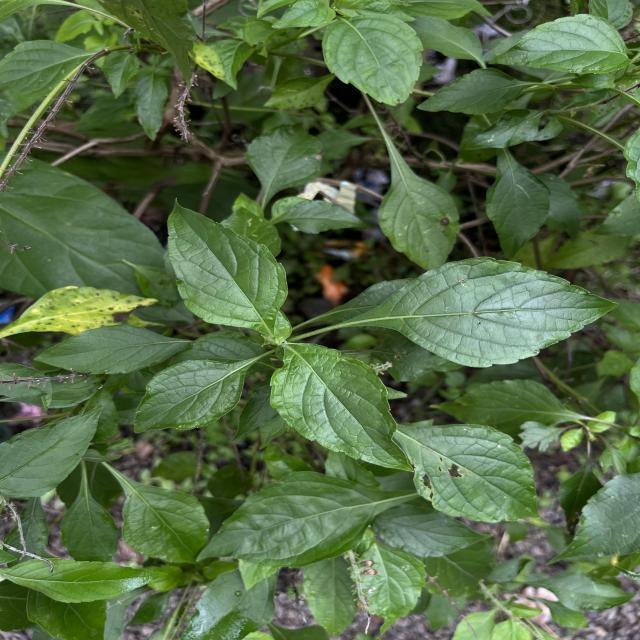Ocimum gratissimum: (303, 253, 623, 371), (192, 464, 406, 572), (268, 330, 418, 474), (162, 195, 290, 343), (394, 422, 544, 524), (375, 132, 462, 266), (130, 354, 263, 436), (0, 403, 107, 503), (320, 9, 426, 109), (484, 10, 635, 77), (31, 323, 193, 376), (1, 556, 167, 606), (482, 149, 554, 262), (414, 67, 536, 116)
